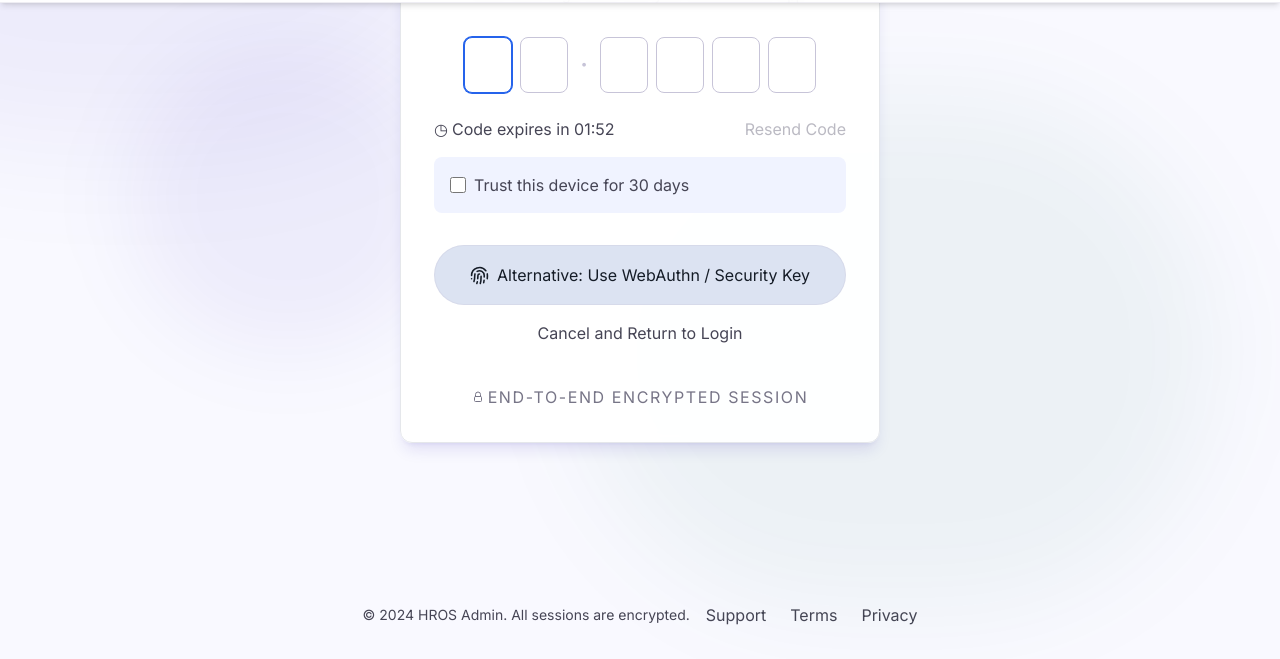
Scenario: LoginPage › returns to credential login from the MFA challenge
The width and height of the screenshot is (1280, 659).
(page scrolled)
Click the button "Cancel and Return to Login". click: x=640, y=333
box: [434, 313, 846, 353]
(page scrolled)
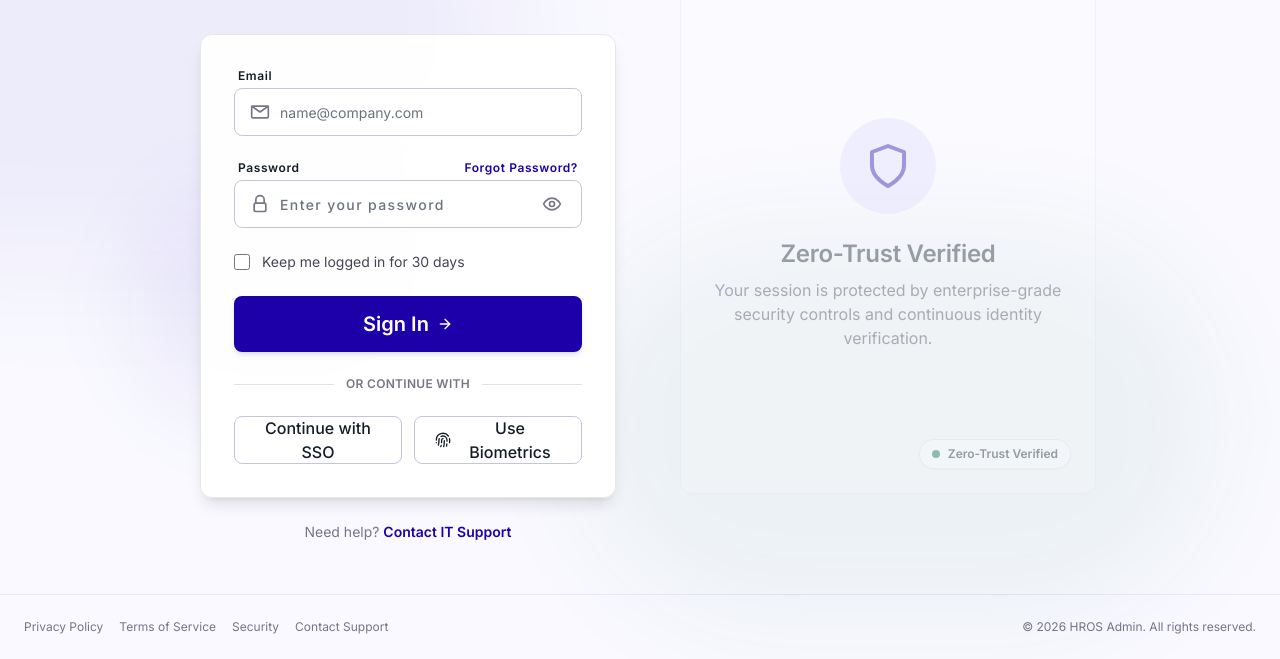
Check: the button "Sign In" is shown, box [234, 296, 582, 352]
